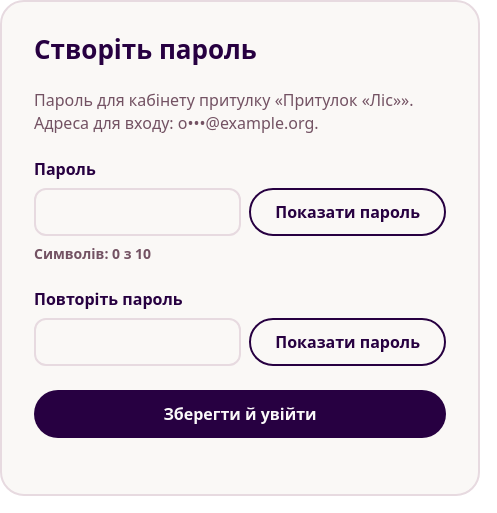
Test: «Створіть пароль» › a link that turns out unusable: the same page the link's GET shows, its heading focused
The width and height of the screenshot is (497, 513).
Type "ялинка-під-вікном" into the password field labelled "Пароль" at [138, 212], box [34, 188, 241, 236]
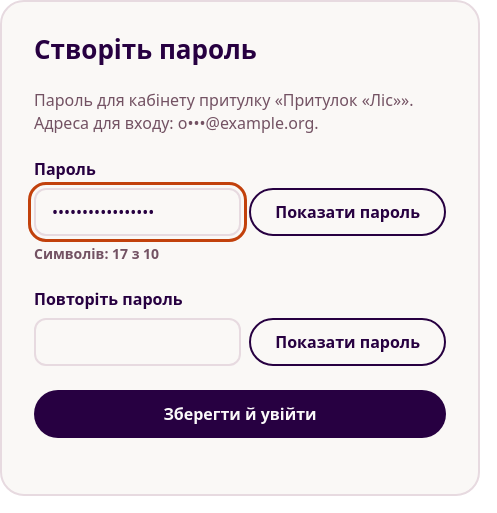
Type "ялинка-під-вікном" into the password field labelled "Повторіть пароль" at [138, 342], box [34, 318, 241, 366]
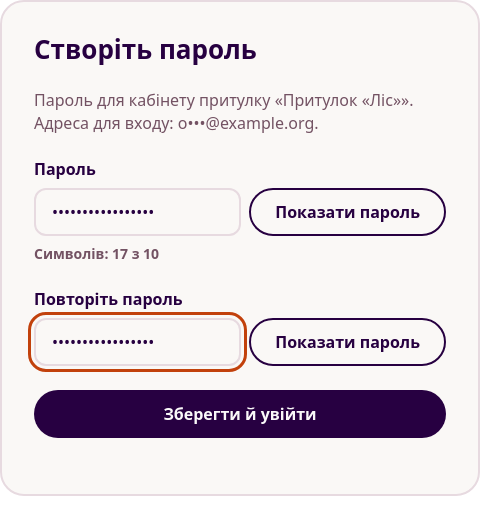
Click the button "Зберегти й увійти" at [240, 414], box [34, 390, 446, 438]
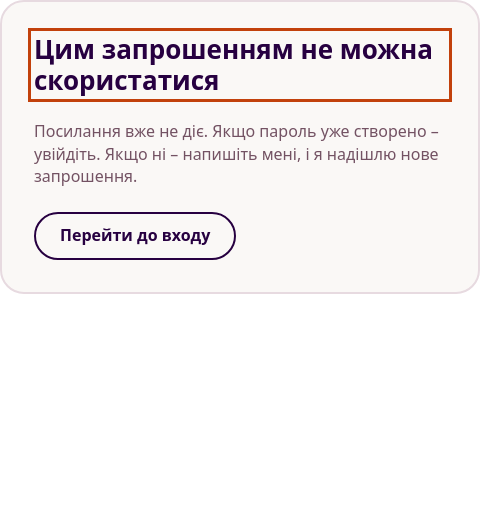
Expected: the text "Посилання вже не діє. Якщо пароль уже створено – увійдіть. Якщо ні – напишіть мені, і я надішлю нове запрошення." is shown, [34, 120, 439, 187]
